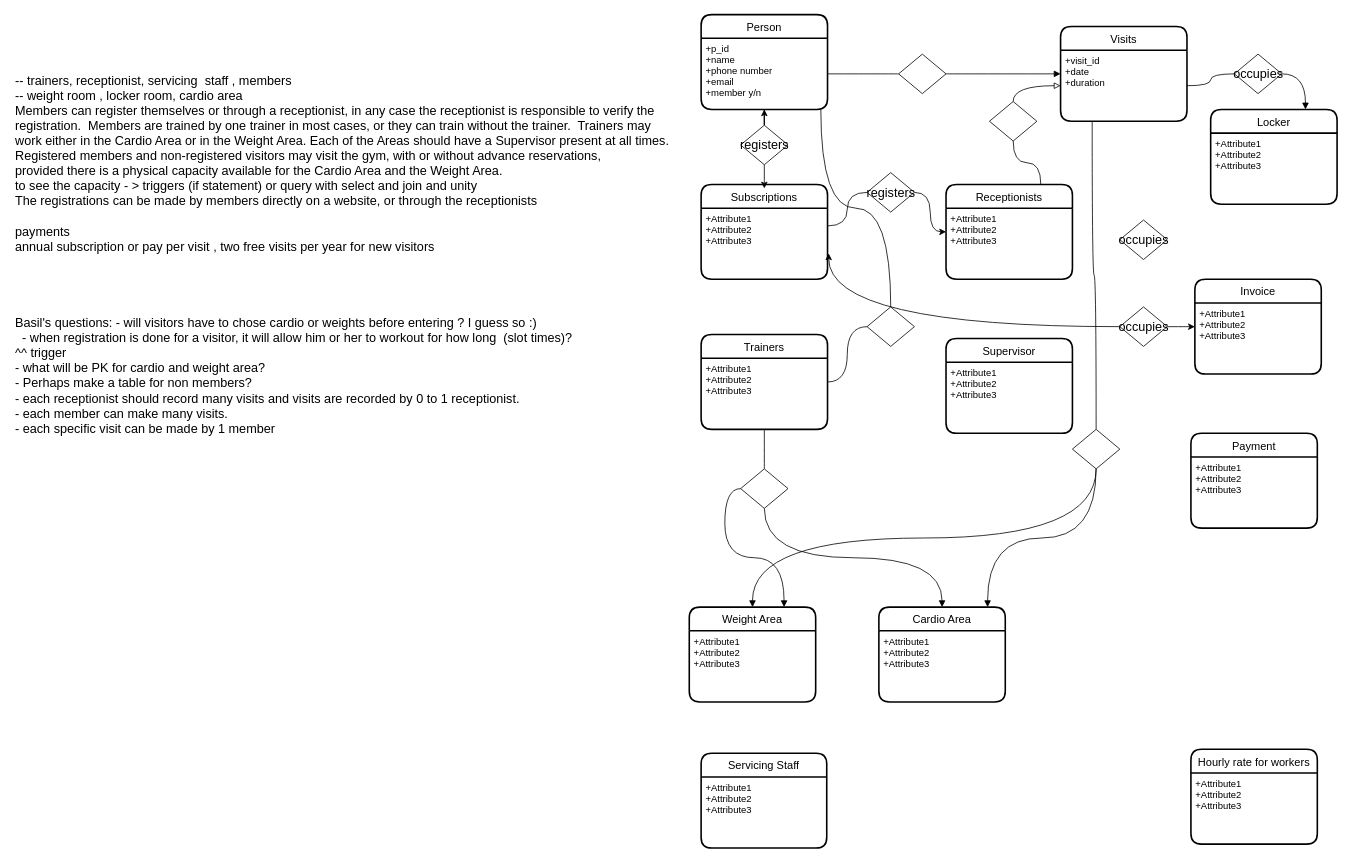
The diagram is 1351 pixels wide and 862 high, and some of its shapes have lost their labels. Here are the shapes that lost their labels. From the top down, the centre of each, then its label:
At point (922, 73): "makes".
At point (1013, 121): "records".
At point (890, 326): "has".
At point (1096, 449): "trains in".
At point (764, 488): "works in".
